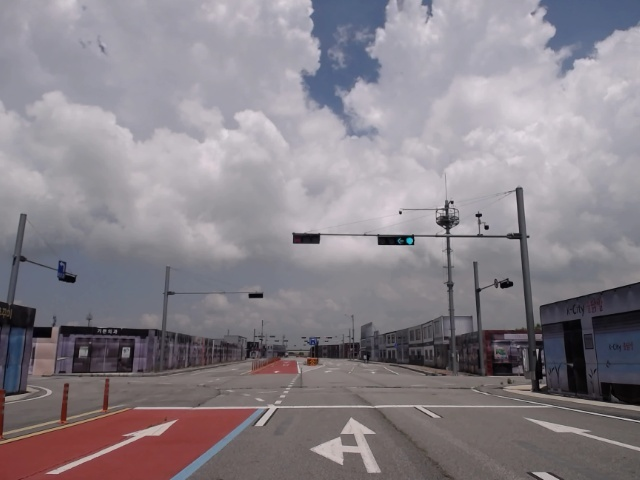all_green_4: (377, 234, 415, 245)
